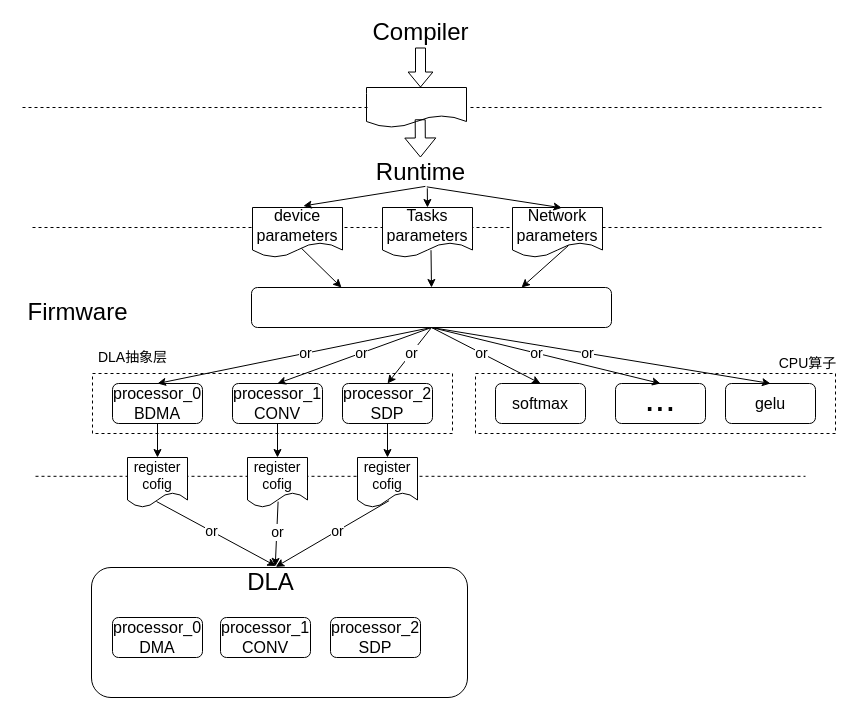
Some shapes in this 859 by 715 pixel diagram are drawn without their labels. The shapes that lost their labels are listed below. From the top down, each one's centre as x and y in pixels, then its label:
At point (416, 107): "mapfile".
At point (431, 307): "AI engine deploy module".
